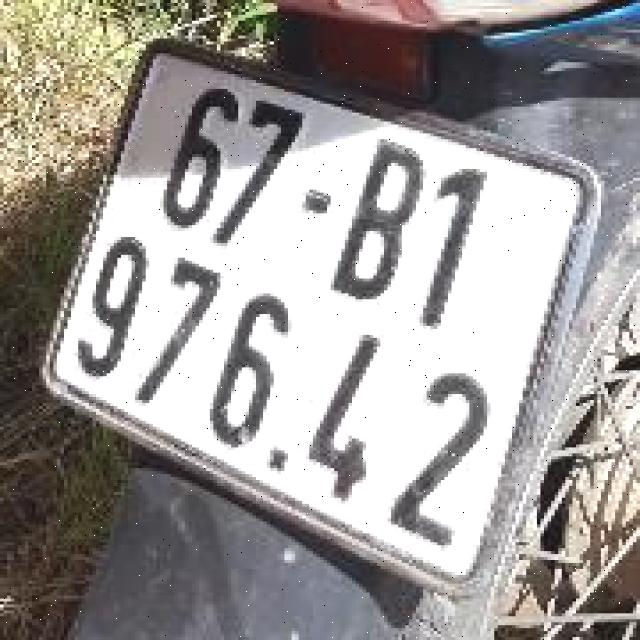1: (387, 146, 511, 348)
2: (371, 343, 527, 565)
4: (287, 315, 425, 520)
6: (187, 278, 316, 467), (143, 72, 260, 244)
7: (189, 91, 329, 270), (105, 244, 240, 424)
9: (60, 220, 172, 396)
B: (320, 128, 440, 317)
